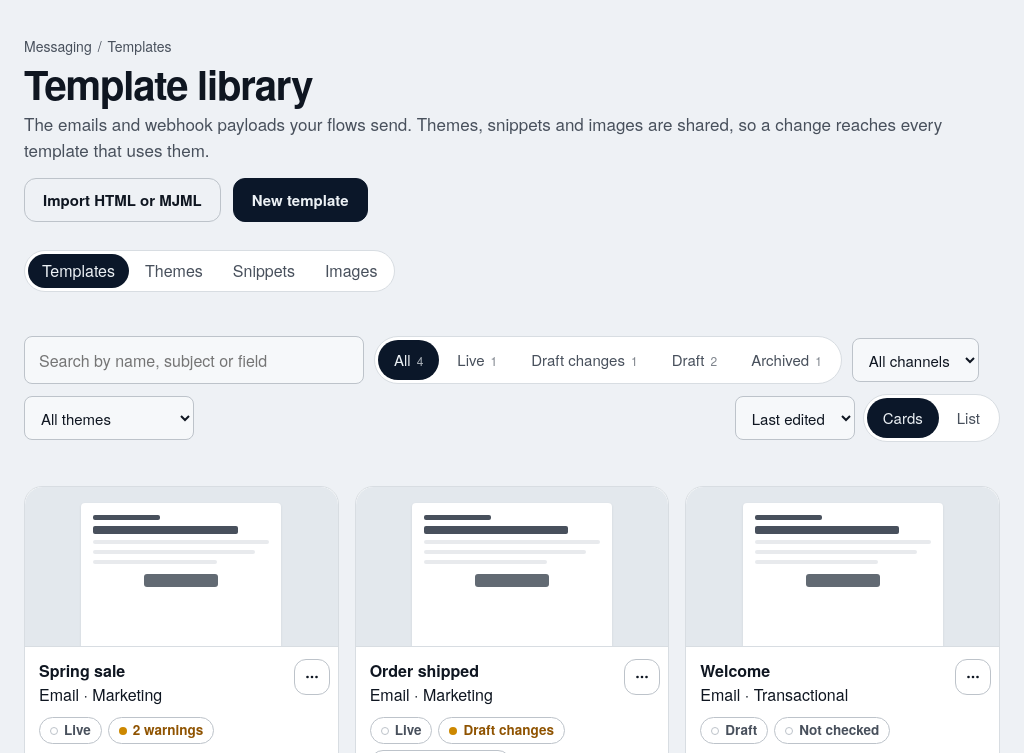
the template library › offers a member who is not an admin Duplicate but not Archive
The image size is (1024, 753).
Click the button named "Actions for Order shipped": click(642, 677) [624,659,660,695]
(page scrolled)
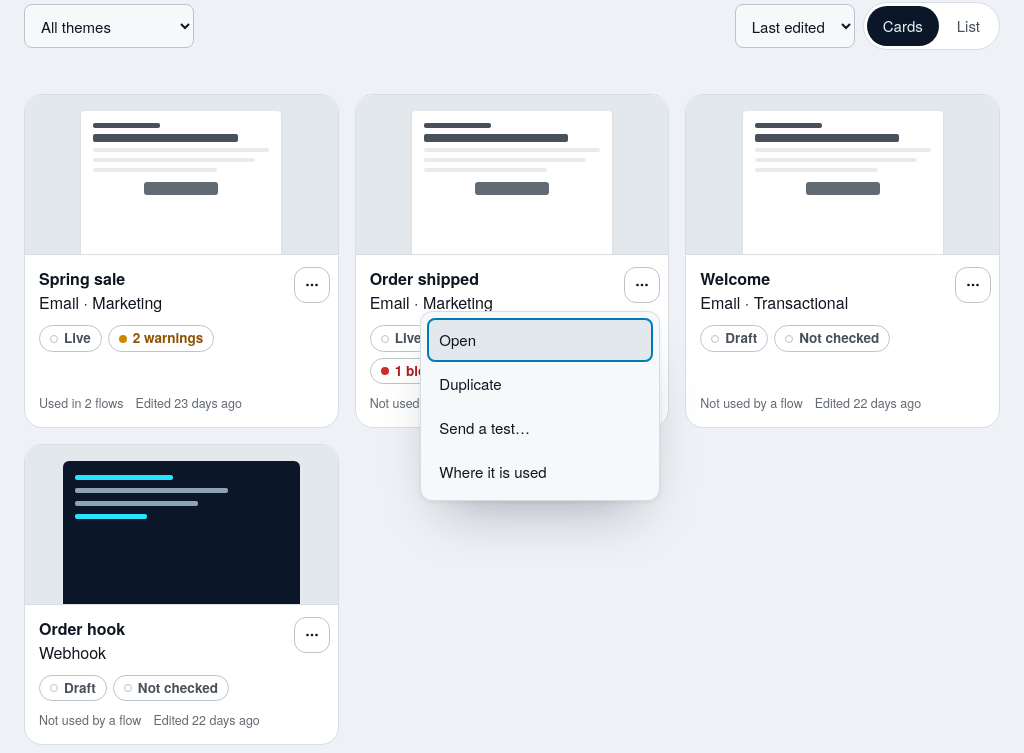
Expected: the menu item "Archive" is not shown
Expected: the menu item "Duplicate" is shown, [427,362,653,406]
